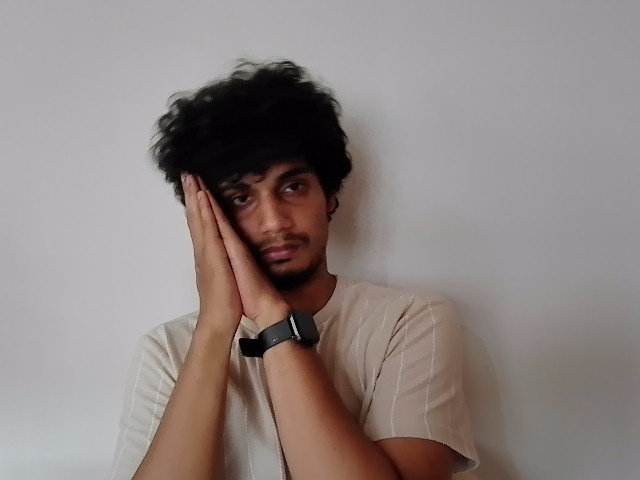sleep: (174, 170, 293, 313)
